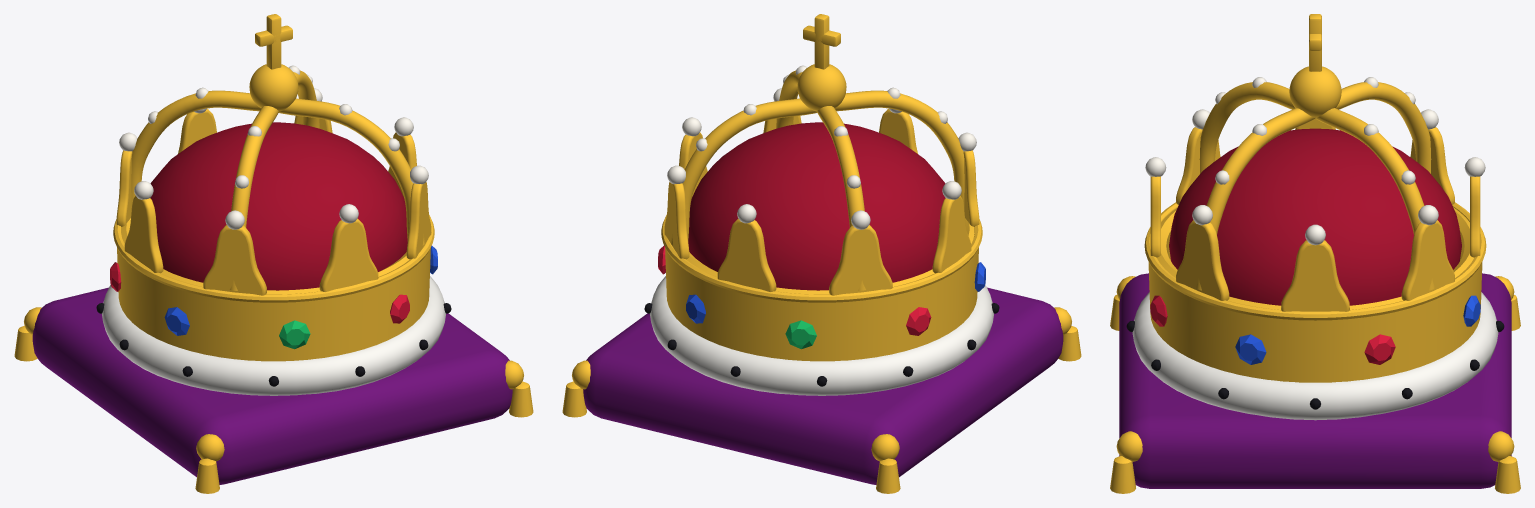
The model's file is RoyalCrown.fbx.
The picture shows the model from 3 angles, left to right: view 1: azimuth 30°, elevation 25°; view 2: azimuth 150°, elevation 25°; view 3: azimuth 270°, elevation 25°; orthographic projection. The views are drawn at different scales.
Visible parts, largest first — view 1: Gold, Cushion, Velvet, Ermine, Pearl, Sapphire, Ruby, Emerald, Spots; view 2: Gold, Cushion, Velvet, Ermine, Pearl, Ruby, Sapphire, Emerald, Spots; view 3: Gold, Cushion, Velvet, Ermine, Pearl, Ruby, Sapphire, Spots.
Boxes of the visible parts, x1,y1,x2,y2 form: Gold: (14,14,533,493); Cushion: (32,287,512,484); Velvet: (150,122,407,290); Ermine: (102,276,445,395); Pearl: (119,65,428,229); Sapphire: (164,245,437,335); Ruby: (110,262,409,323); Emerald: (279,320,310,349); Spots: (96,303,451,386); Gold: (562,14,1081,493); Cushion: (583,287,1063,484); Velvet: (688,122,945,290); Ermine: (650,276,993,395); Pearl: (667,65,976,229); Ruby: (658,245,931,335); Sapphire: (686,262,985,323); Emerald: (785,320,816,349); Spots: (644,303,999,386); Gold: (1110,14,1520,493); Cushion: (1119,273,1511,488); Velvet: (1169,128,1461,305); Ermine: (1132,292,1498,420); Pearl: (1145,77,1485,245); Ruby: (1150,295,1395,364); Sapphire: (1235,295,1480,364); Spots: (1126,320,1504,409).
Bounding box in the file's own units: 157 × 169 × 157.
